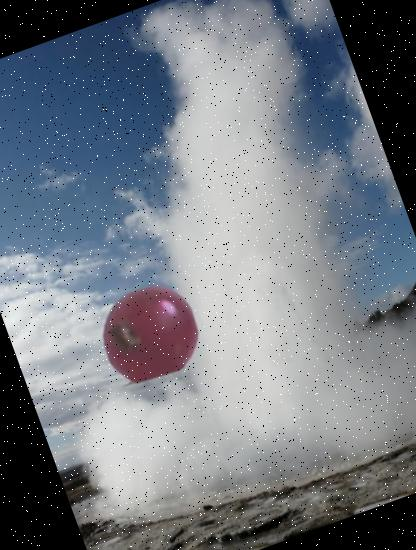Redcurrant: (86, 268, 212, 394)
